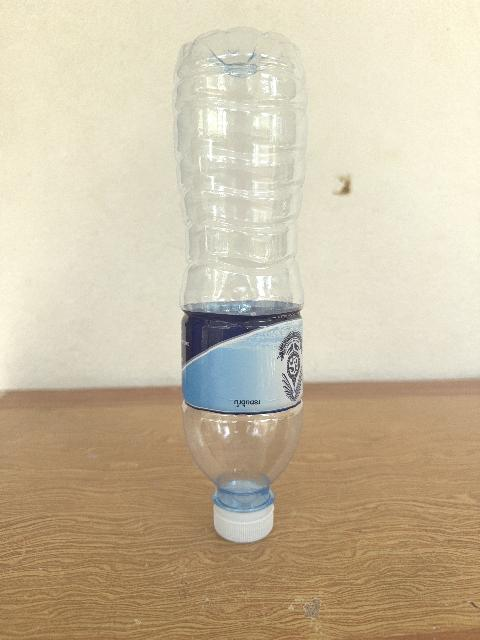bottle: (173, 29, 305, 542)
